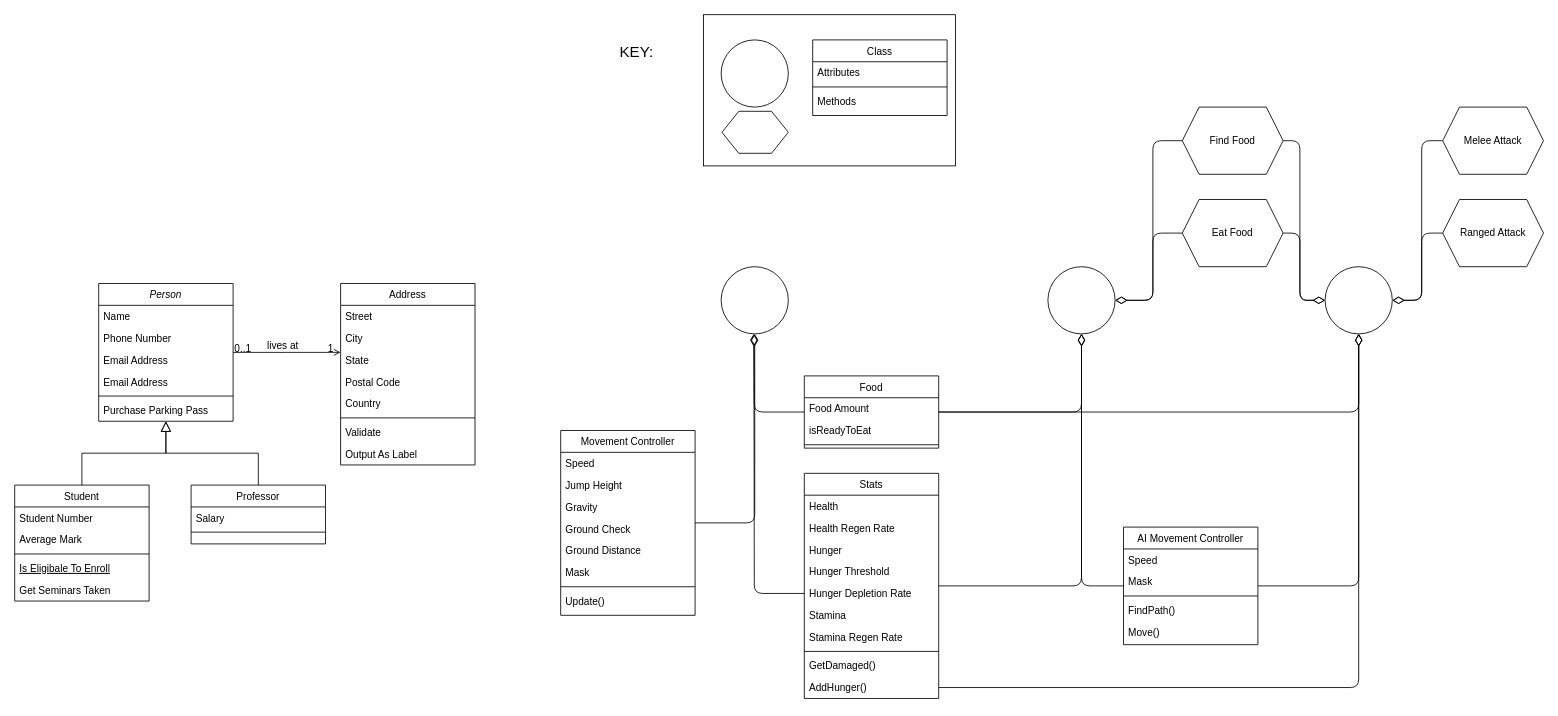
Some shapes in this 1558 by 716 pixel diagram are drawn without their labels. The centre of each missing label's shape, as x and y in pixels:
"ACTION" goes at point 754,131.
"FLY" goes at point 1081,300.
"GAME OBJECT" goes at point 754,73.
"LIZARD" goes at point 1358,300.
"PLAYER" goes at point 754,300.
